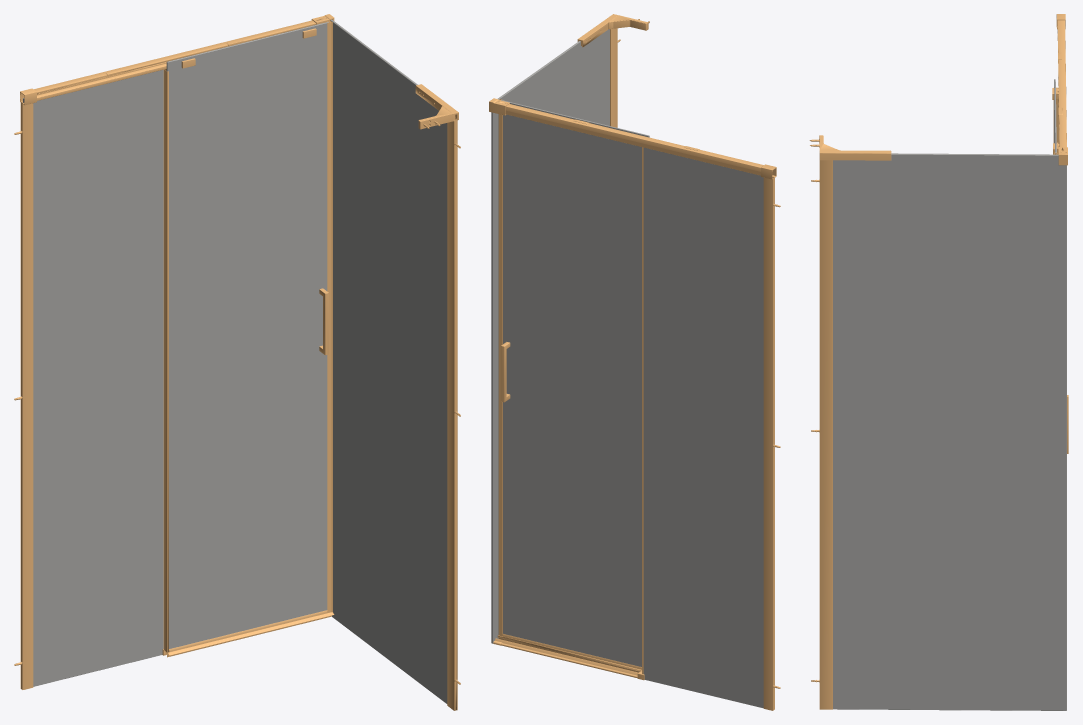
The model's file is bath_.glb.
3 renders of one model, left to right at view 1: azimuth 30°, elevation 25°; view 2: azimuth 150°, elevation 25°; view 3: azimuth 270°, elevation 25°, orthographic. The views are drawn at different scales.
Parts seen in each view (by area): view 1: S45SC01+RP__25.7.120, S45SC01+RP__25.7.001; view 2: S45SC01+RP__25.7.120, S45SC01+RP__25.7.001; view 3: S45SC01+RP__25.7.120, S45SC01+RP__25.7.001.
Part boxes in pixels (left/top/right/bottom): S45SC01+RP__25.7.120: left=23, top=19, right=447, bottom=703; S45SC01+RP__25.7.001: left=14, top=14, right=460, bottom=710; S45SC01+RP__25.7.120: left=491, top=29, right=763, bottom=708; S45SC01+RP__25.7.001: left=489, top=14, right=780, bottom=710; S45SC01+RP__25.7.120: left=833, top=79, right=1066, bottom=710; S45SC01+RP__25.7.001: left=809, top=14, right=1068, bottom=709.
Bounding box in the file's own units: 6.01 × 10.76 × 4.54.
